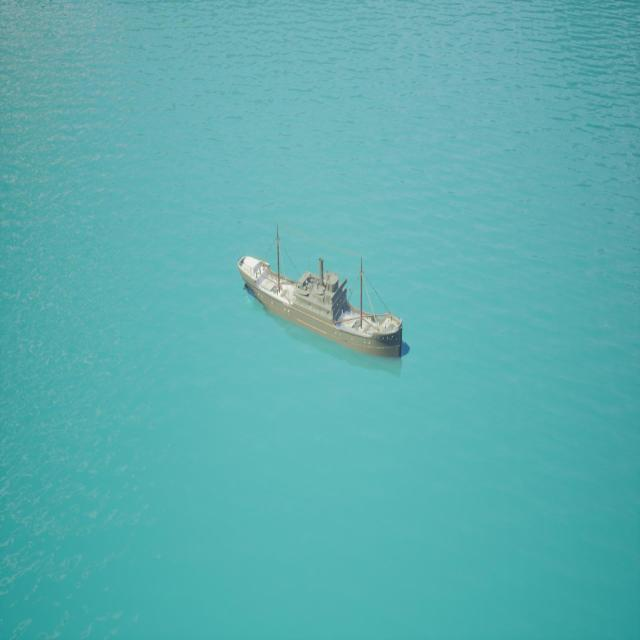fishing ship: (239, 226, 407, 364)
